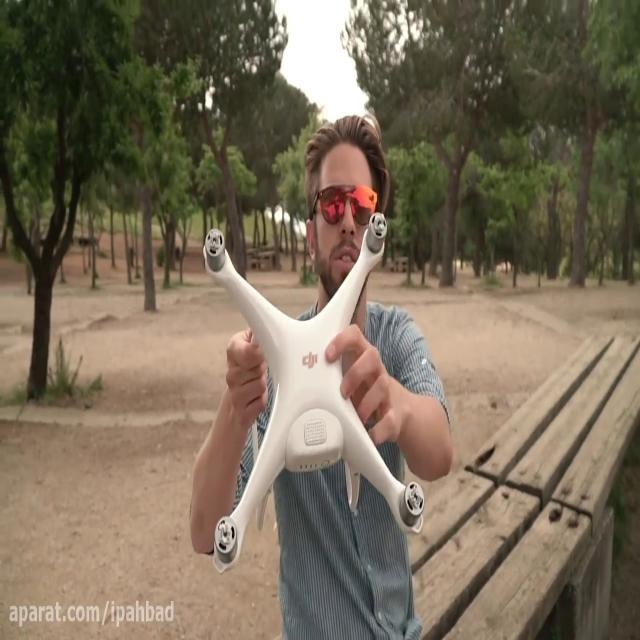drone: (201, 208, 424, 576)
